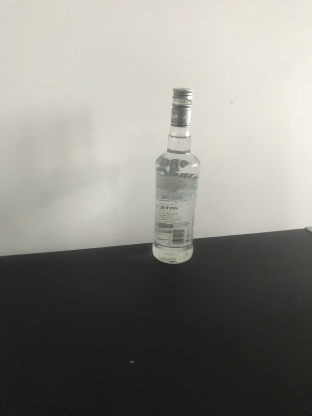nakretka: (169, 84, 194, 128)
